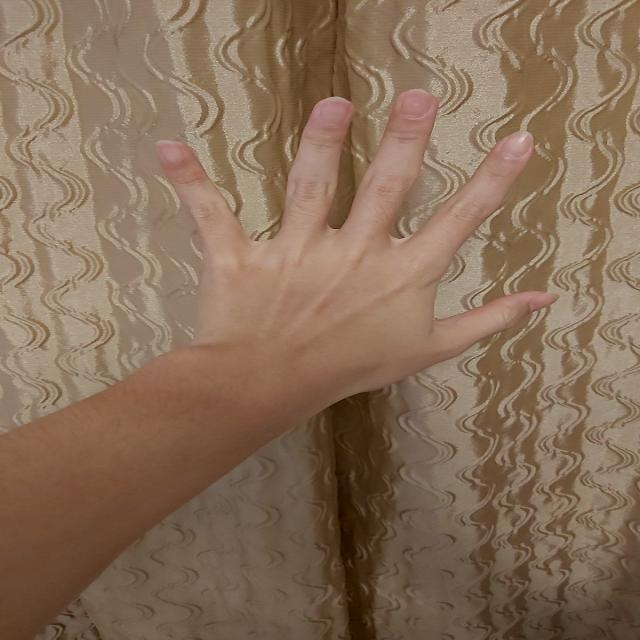no_glove: (137, 79, 571, 425)
